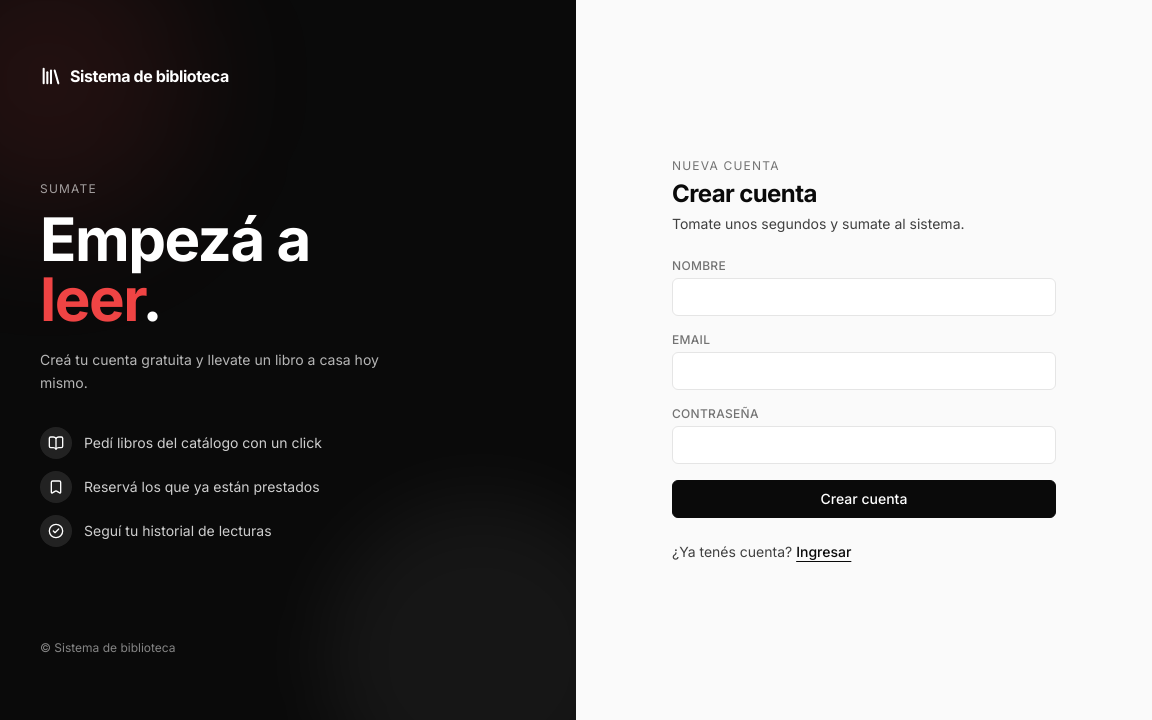
RegisterPage › muestra 'Ese email ya está registrado' cuando el backend responde 409
The width and height of the screenshot is (1152, 720).
Type "Aixa" into the field labelled "Nombre" at (864,297), box x1=672 y1=278 x2=1056 y2=316
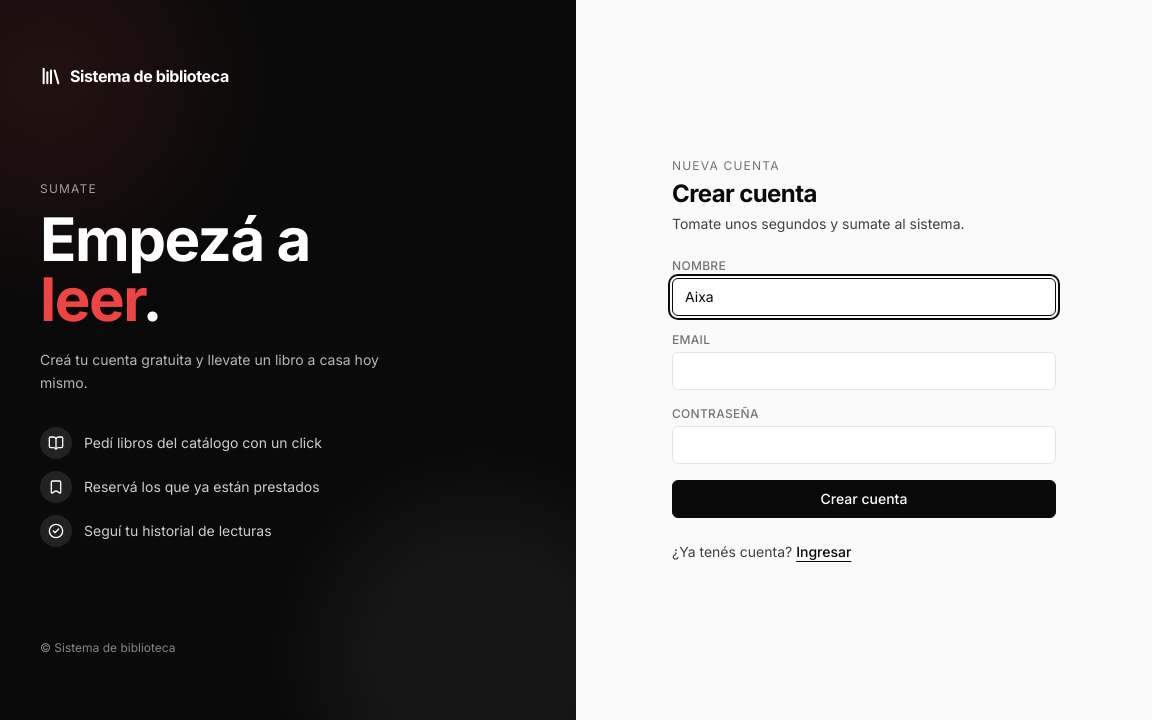
Type "a@b.c" into the field labelled "Email" at (864,371), box x1=672 y1=352 x2=1056 y2=390
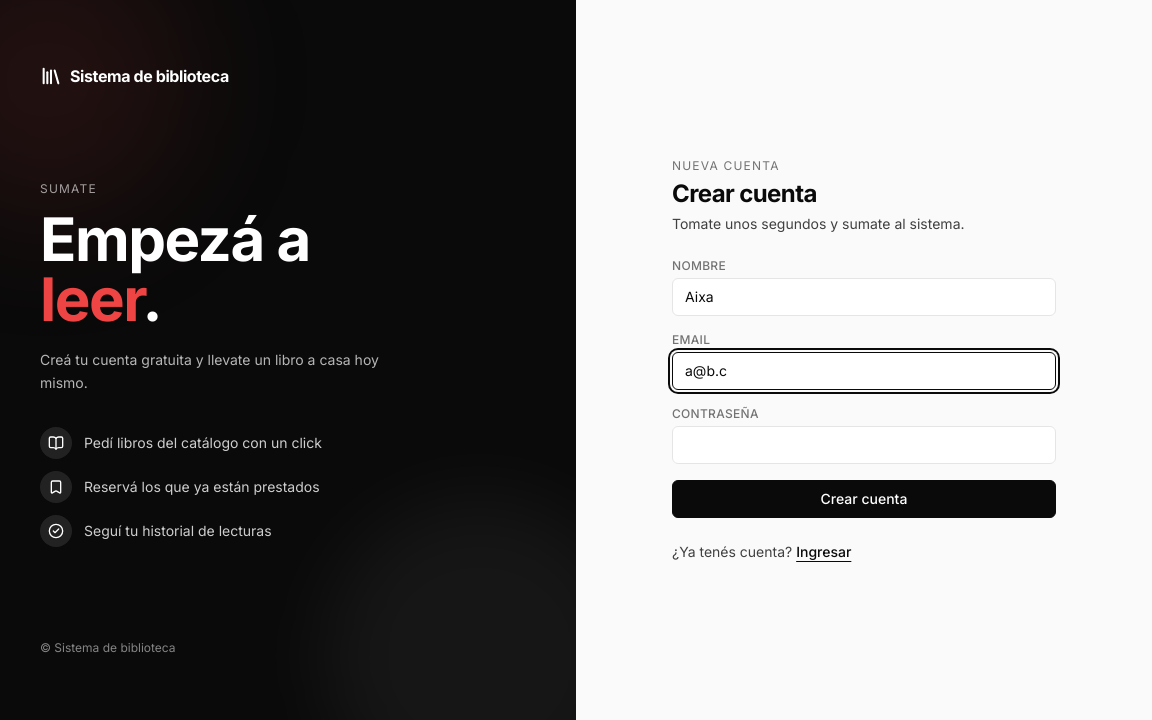
Type "secret1" into the password field labelled "Contraseña" at (864,445), box x1=672 y1=426 x2=1056 y2=464
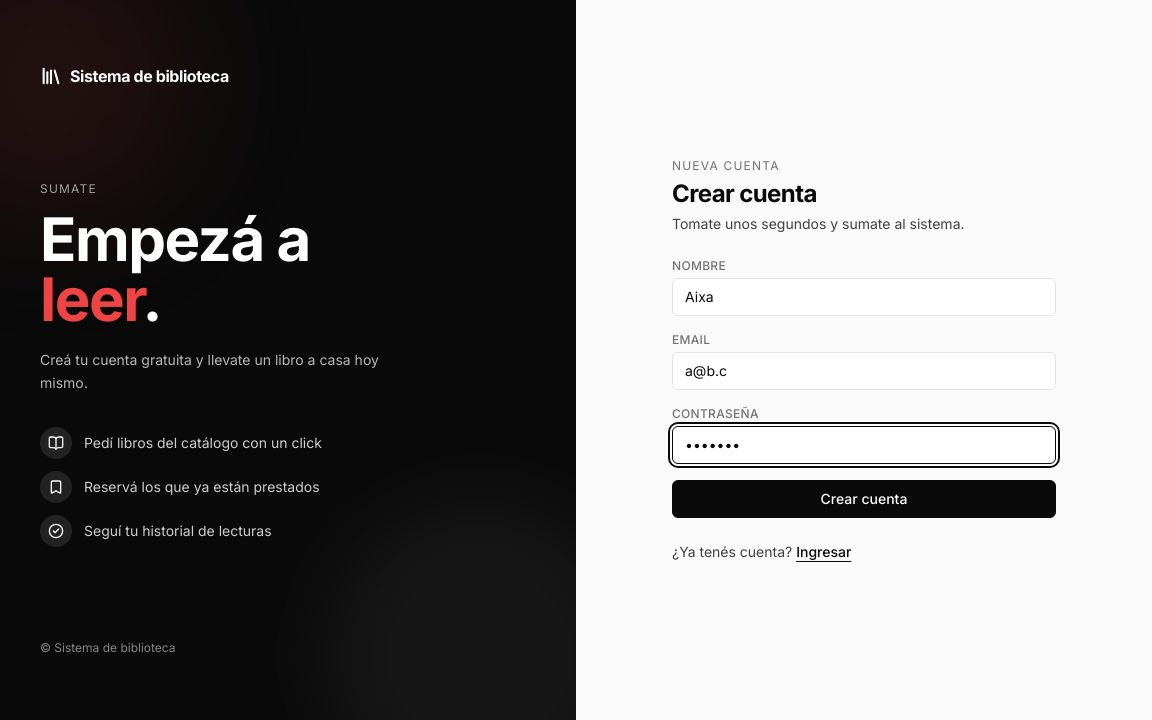
Click the button "Crear cuenta" at (864,499), box x1=672 y1=480 x2=1056 y2=518
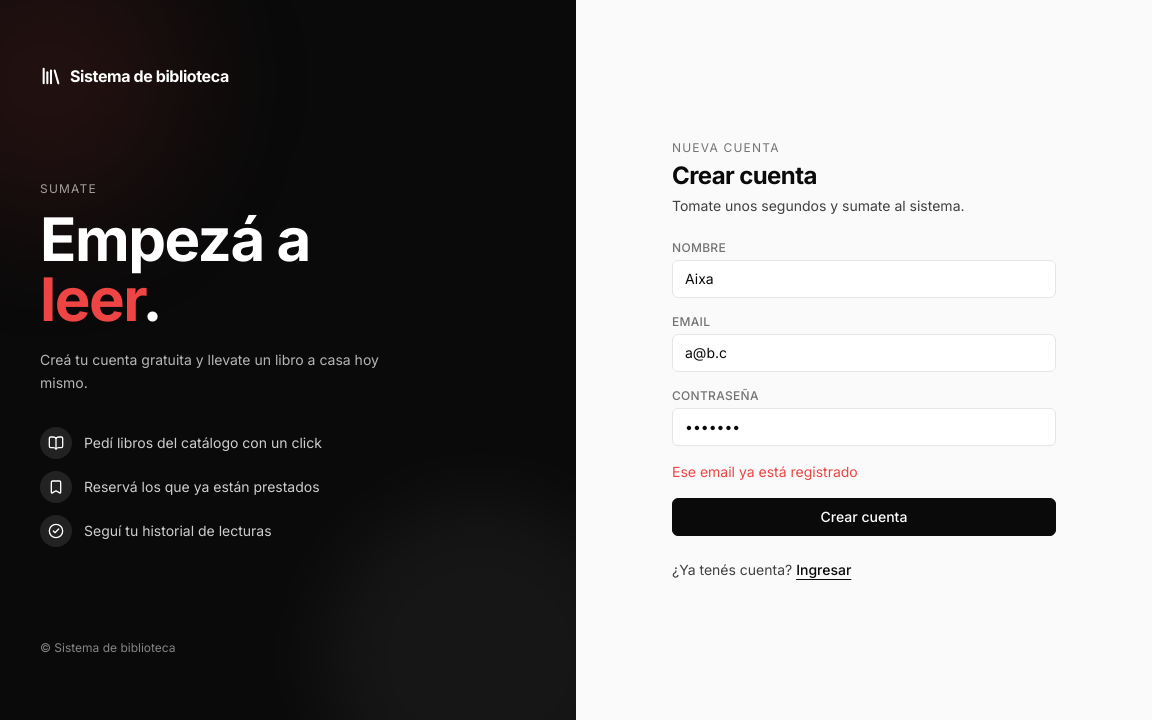
Now the message reads "Ese email ya está registrado", box x1=672 y1=463 x2=858 y2=480
